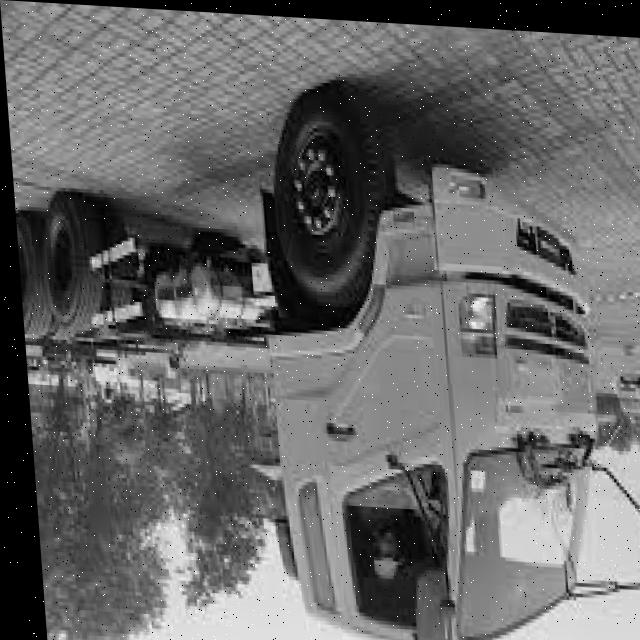truck: (227, 139, 640, 640)
